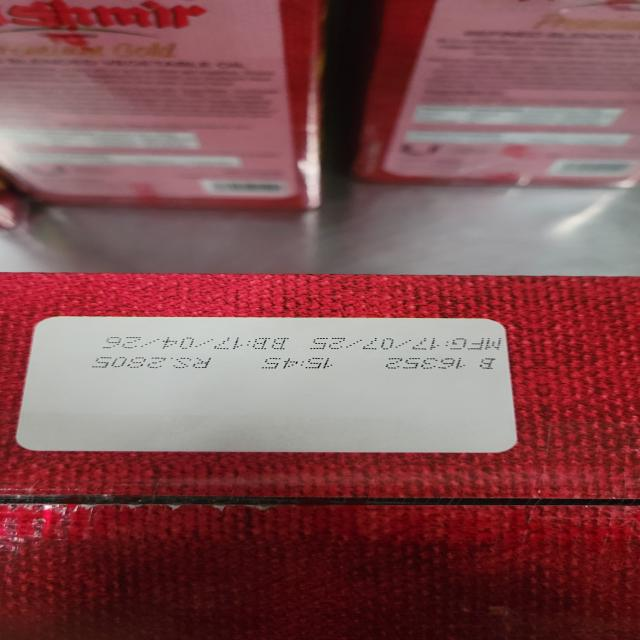BB: (103, 333, 294, 354)
Batch: (382, 356, 502, 370)
MFG: (310, 336, 506, 351)
RS: (95, 354, 220, 370)
TimeStamp: (261, 355, 336, 371)
